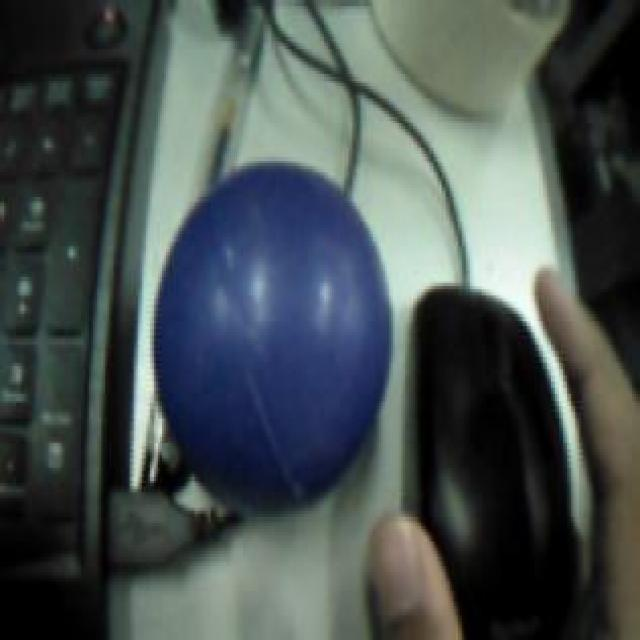BallPurple: (154, 160, 392, 512)
